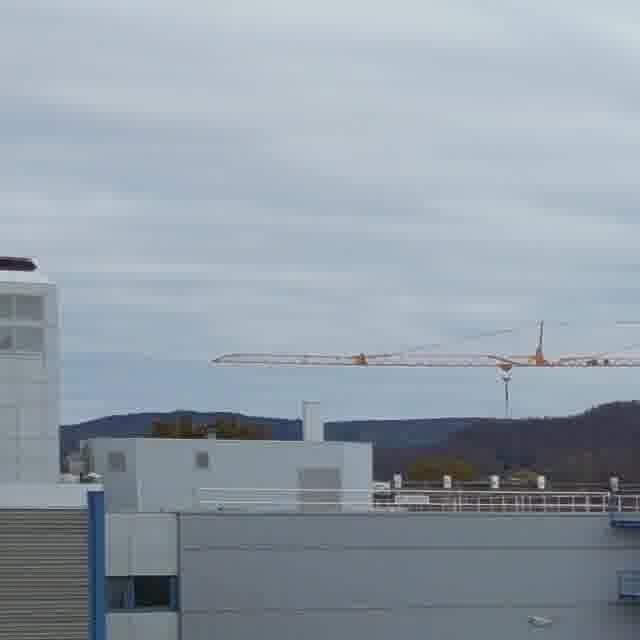Drohne: (528, 616, 551, 625)
